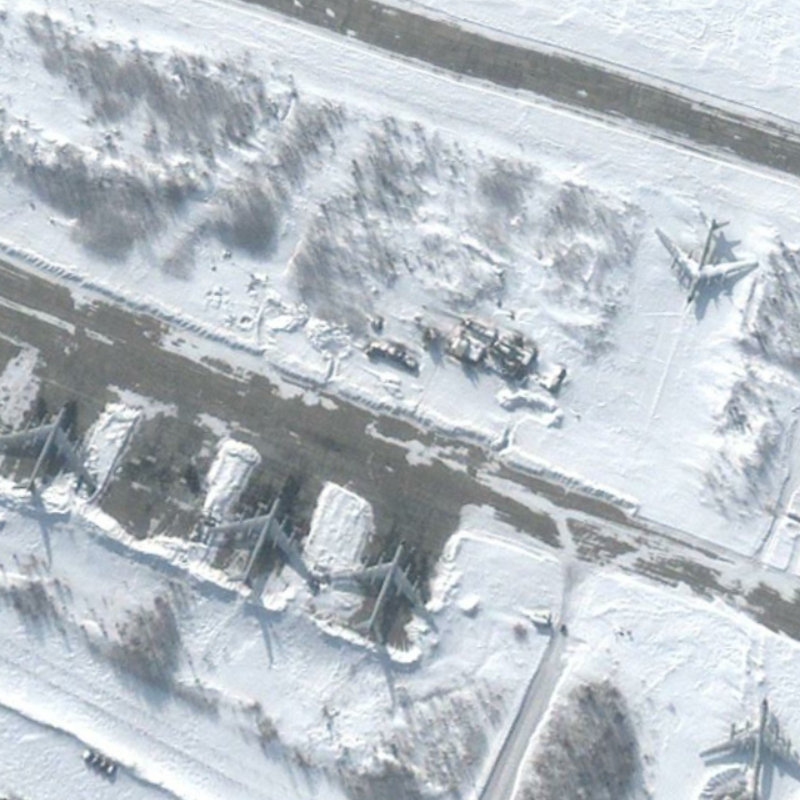A17: (197, 493, 317, 597), (327, 535, 438, 647), (694, 693, 800, 800), (655, 210, 763, 309), (1, 397, 103, 498)
